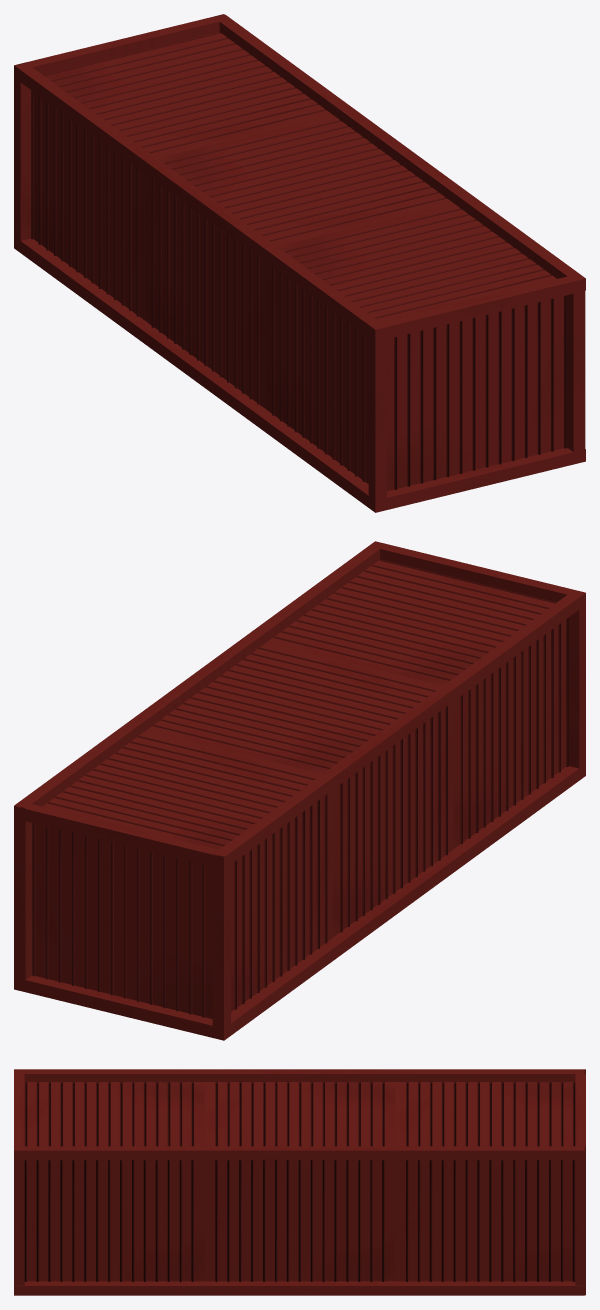
Rendered from container do.fbx.
3 views of the same model, one above another, from view 1: azimuth 30°, elevation 25°; view 2: azimuth 150°, elevation 25°; view 3: azimuth 270°, elevation 25° (orthographic). The views are drawn at different scales.
Parts seen in each view (by area): view 1: Plane.063; view 2: Plane.063; view 3: Plane.063.
Part boxes in pixels (x1=…): Plane.063: x1=14, y1=14, x2=585, y2=512; Plane.063: x1=14, y1=541, x2=585, y2=1040; Plane.063: x1=14, y1=1069, x2=585, y2=1295.
Bounding box in the file's own units: 586 × 487 × 1742.
